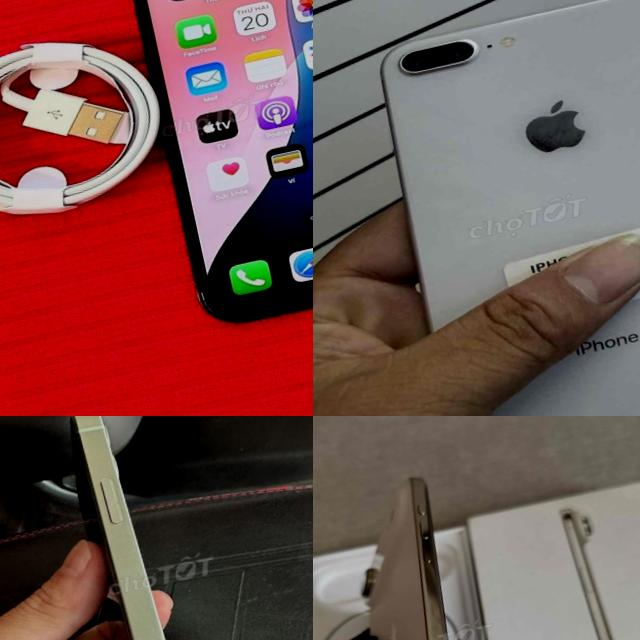gen_12_13: (103, 0, 313, 339), (41, 416, 234, 640)
gen_17: (314, 469, 507, 640)
gen_7_8: (360, 0, 640, 416)
